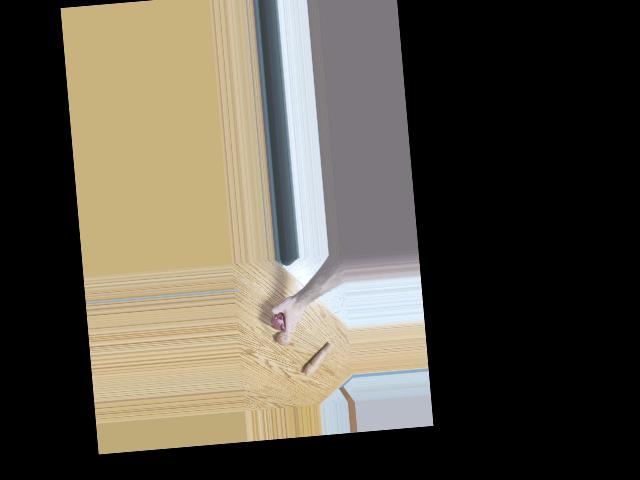onion: (275, 329, 292, 346)
